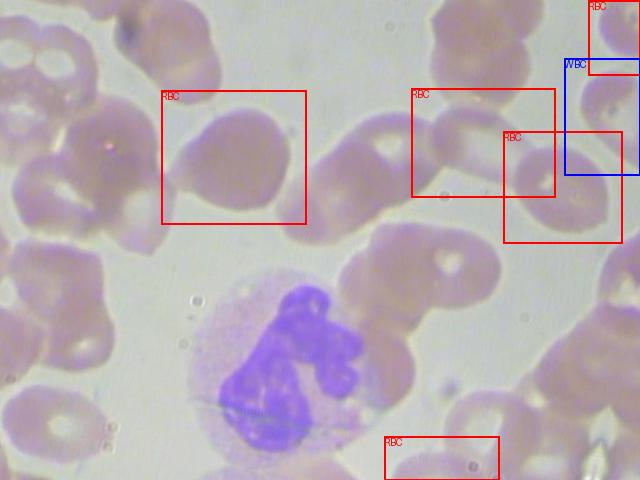RBC: (161, 90, 306, 224), (411, 88, 555, 197), (503, 131, 622, 243), (384, 436, 499, 480), (588, 0, 640, 75)
WBC: (564, 58, 640, 175)
